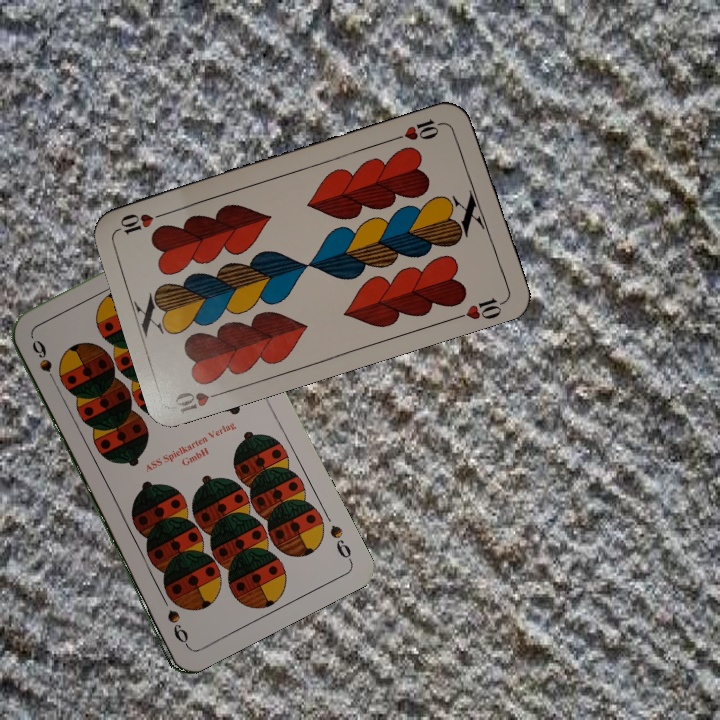H10: (169, 386, 230, 416), (391, 114, 449, 143)
S9: (28, 335, 61, 390), (325, 521, 355, 564)
